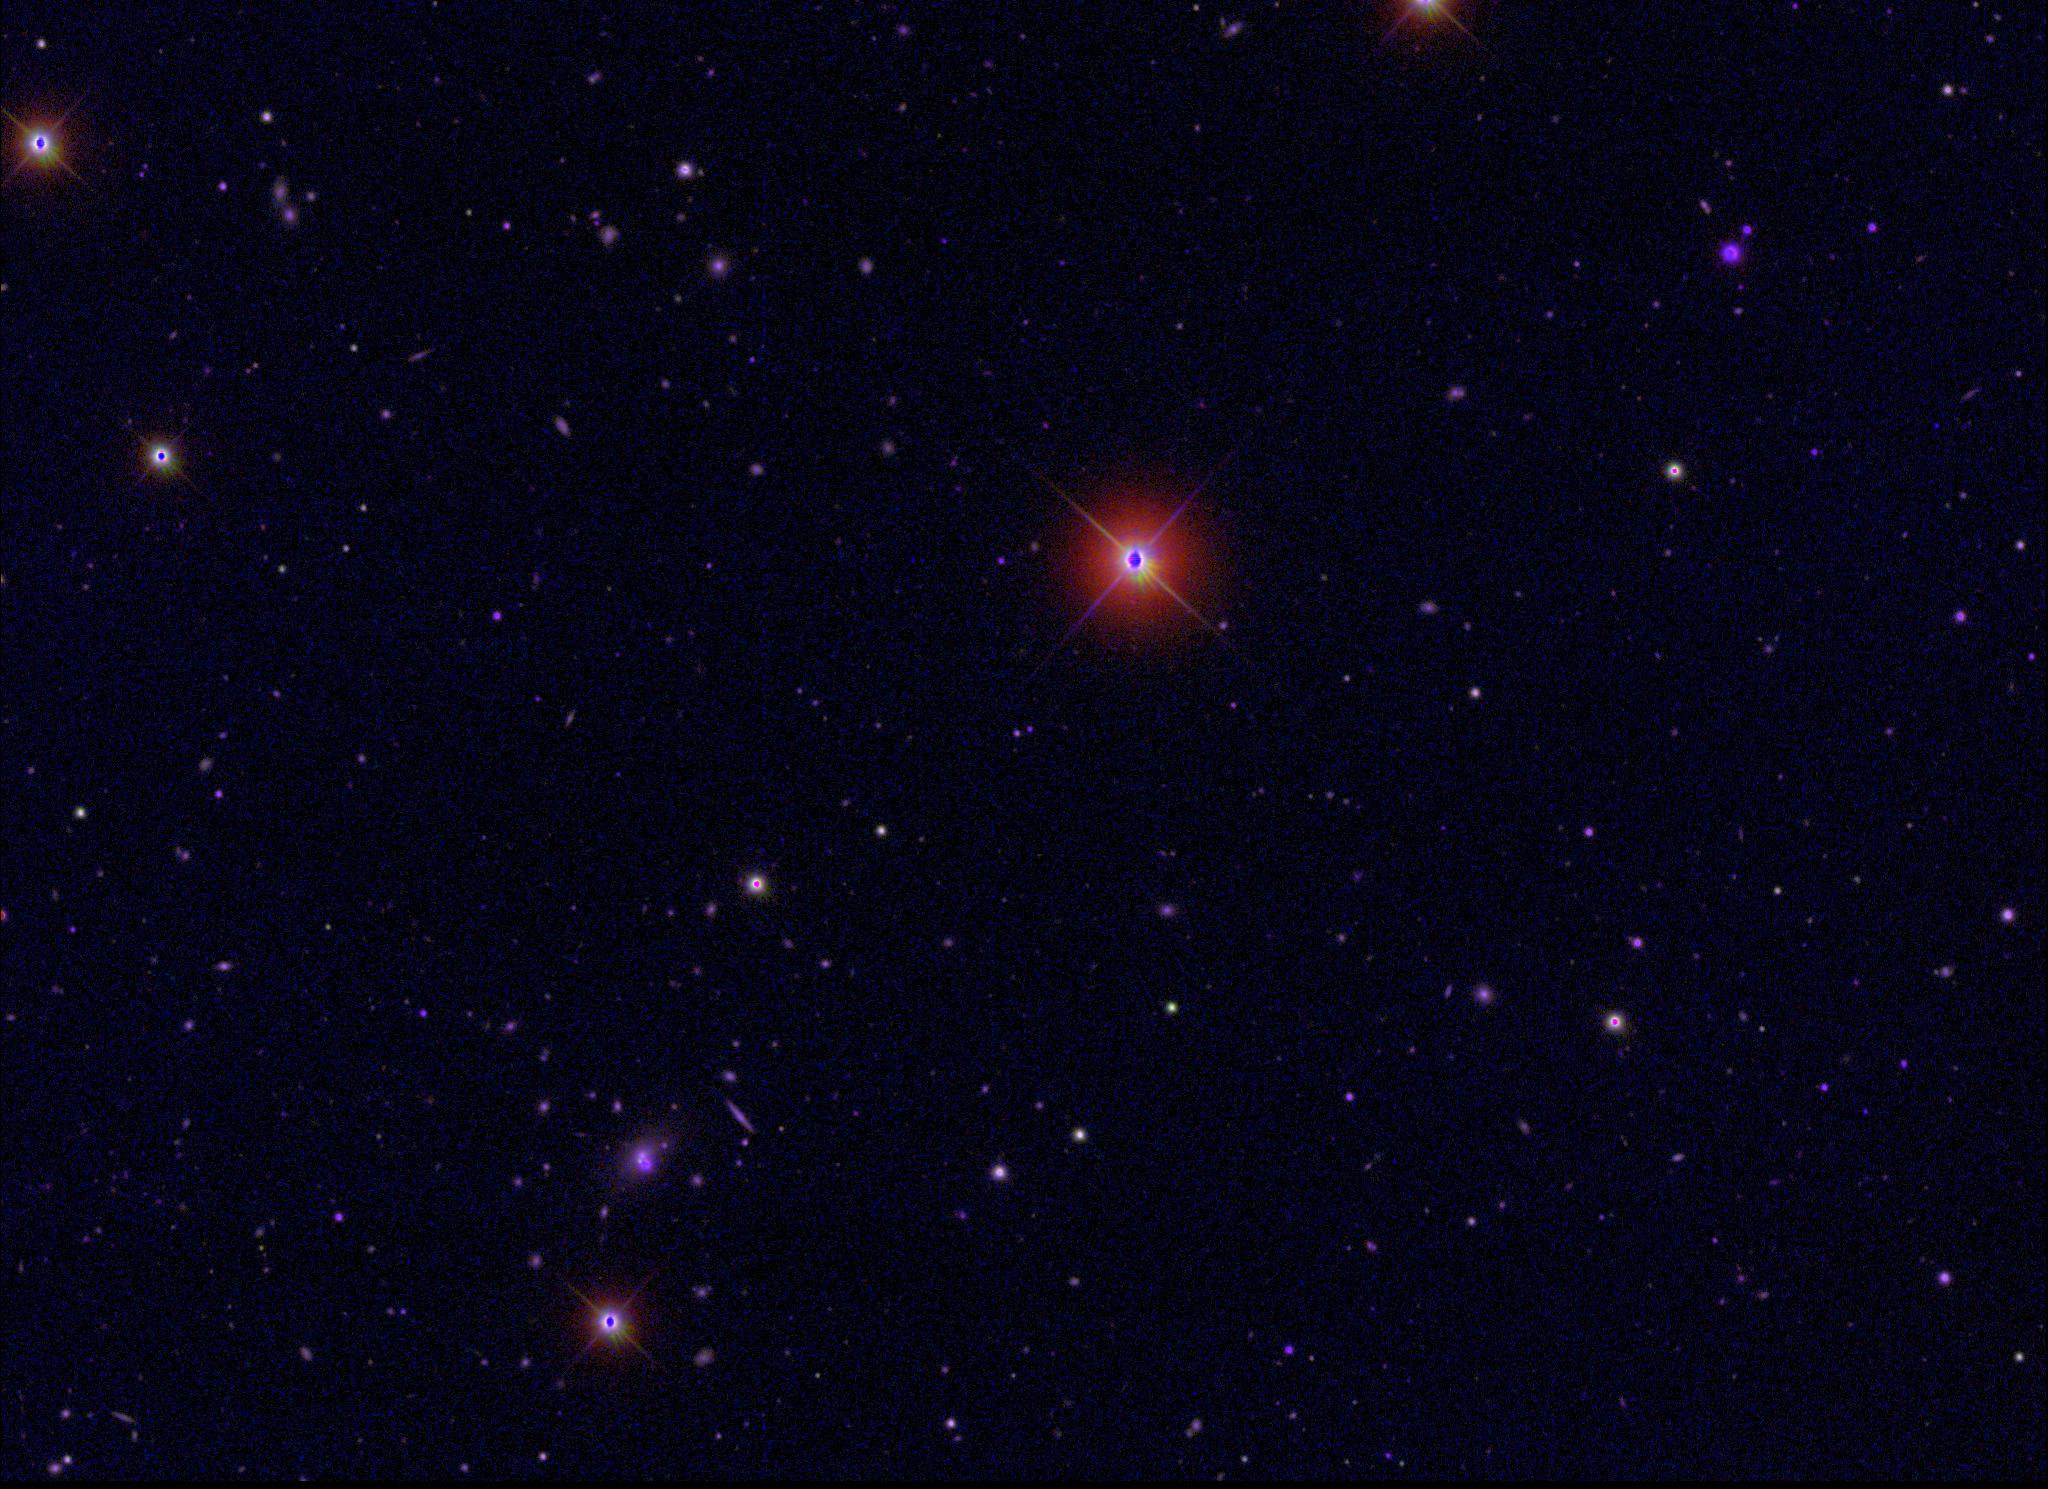L: (1930, 418, 1945, 433)
